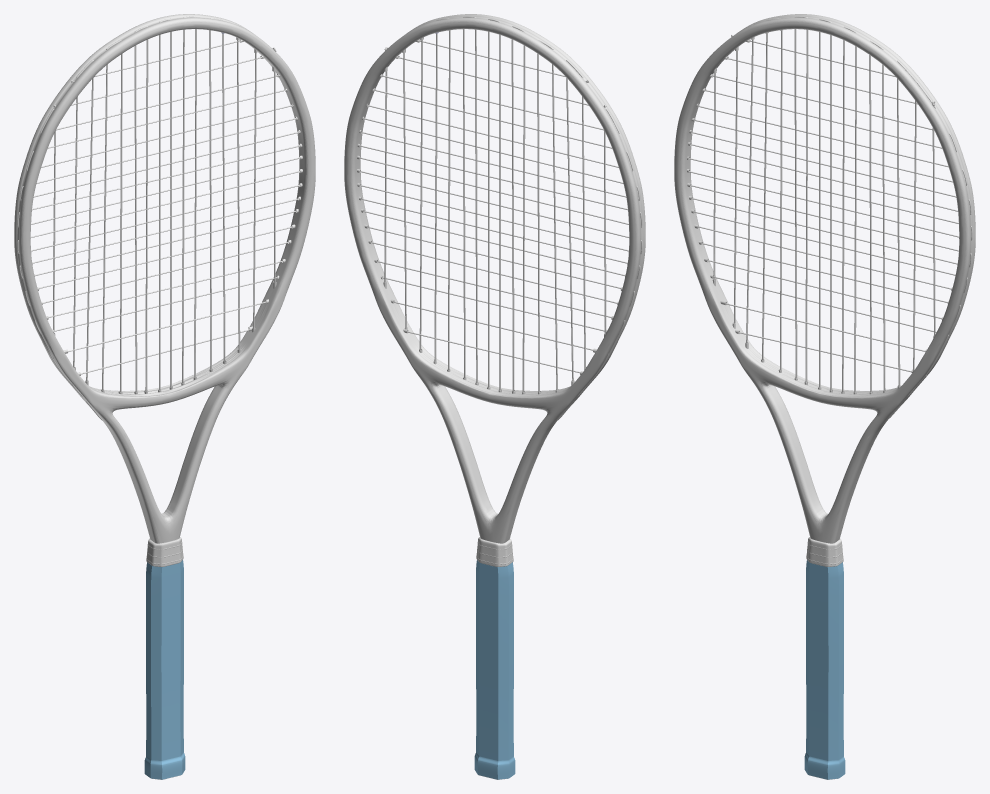
File: tennis.fbx
3 renders of one model, left to right at view 1: azimuth 30°, elevation 25°; view 2: azimuth 150°, elevation 25°; view 3: azimuth 330°, elevation 25°, orthographic.
Visible parts, largest first — view 1: Tennis_Racket_handle; view 2: Tennis_Racket_handle; view 3: Tennis_Racket_handle.
Part boxes in pixels (x1=…): Tennis_Racket_handle: x1=14, y1=14, x2=315, y2=779; Tennis_Racket_handle: x1=344, y1=14, x2=645, y2=779; Tennis_Racket_handle: x1=674, y1=14, x2=975, y2=779.
Size of the model in its own units: 2840 by 6920 by 241.
